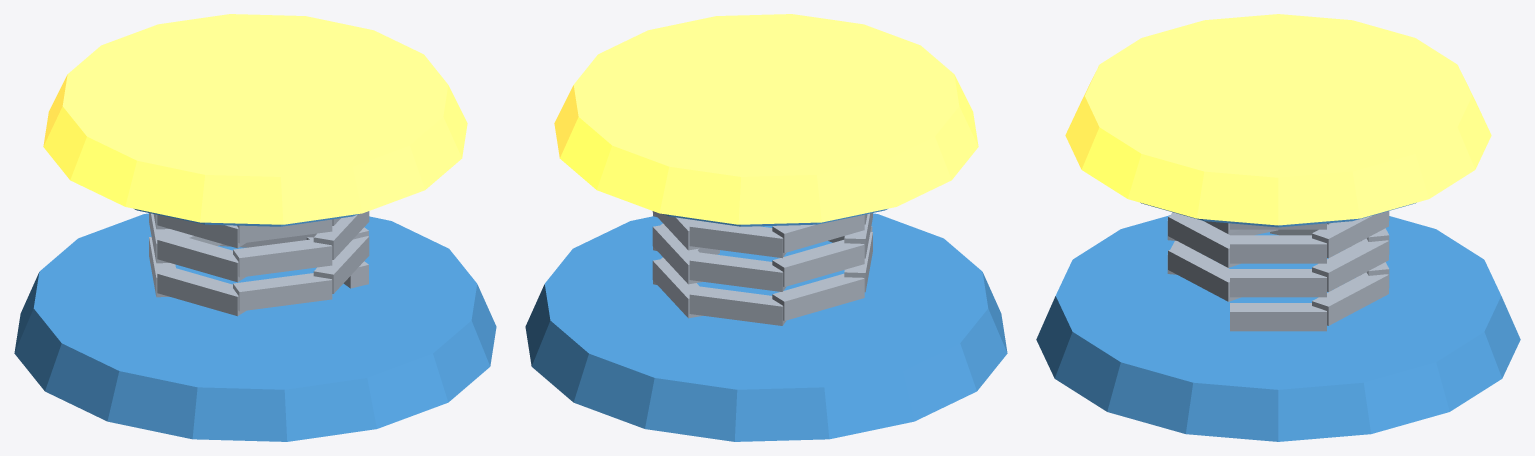
Rendered from bouncer.glb.
3 renders of one model, left to right at view 1: azimuth 30°, elevation 25°; view 2: azimuth 150°, elevation 25°; view 3: azimuth 270°, elevation 25°, orthographic.
Parts seen in each view (by area): view 1: Bouncer; view 2: Bouncer; view 3: Bouncer.
Part boxes in pixels (x1,y1,x2,y2): Bouncer: (14, 14, 496, 441); Bouncer: (525, 14, 1007, 441); Bouncer: (1036, 14, 1520, 441).
Size of the model in its own units: 0.5 by 0.2775 by 0.5.
